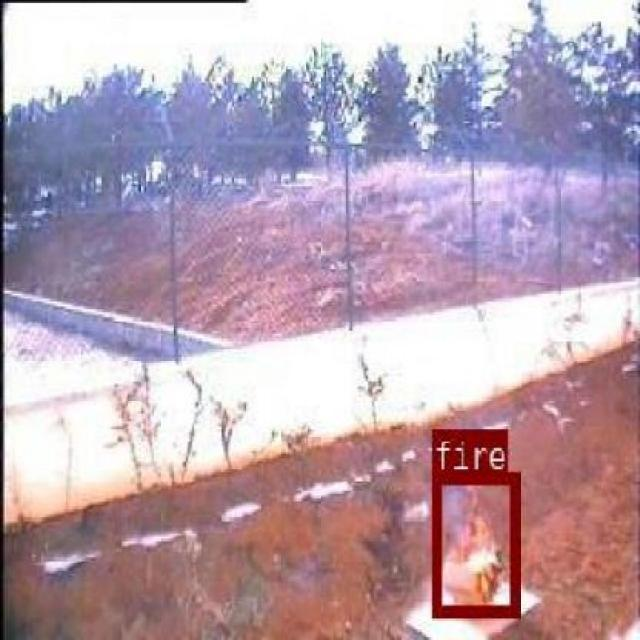Fire: (455, 516, 507, 598)
